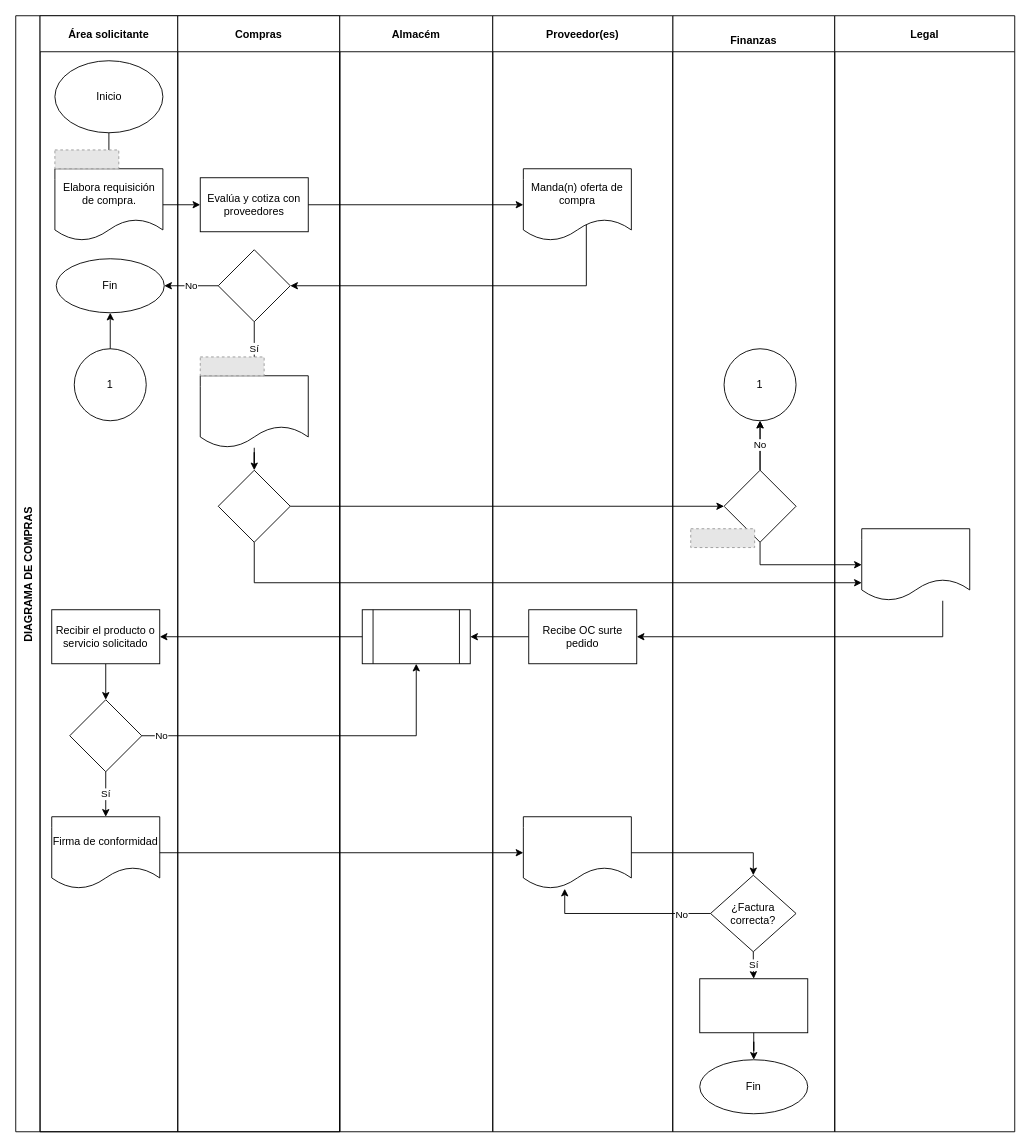
Some shapes in this 1031 by 1148 pixel diagram are drawn without their labels. Grey dashed boxes stand in for pictures. Here are the shapes that lost their labels. From the top down, the centre of each, then its label:
the point at 253,285: ¿Recibió ofertas?
the point at 253,411: Selecciona la mejor oferta y genera pedido
the point at 253,505: ¿Compra > 100K?
the point at 759,505: Autorización SAP
the point at 915,564: Elabora OC y da seguimiento
the point at 415,636: Recepción de material
the point at 105,735: ¿Todo es correcto?
the point at 576,852: Genera factura
the point at 753,1005: Se hace transferencia al proveedor
